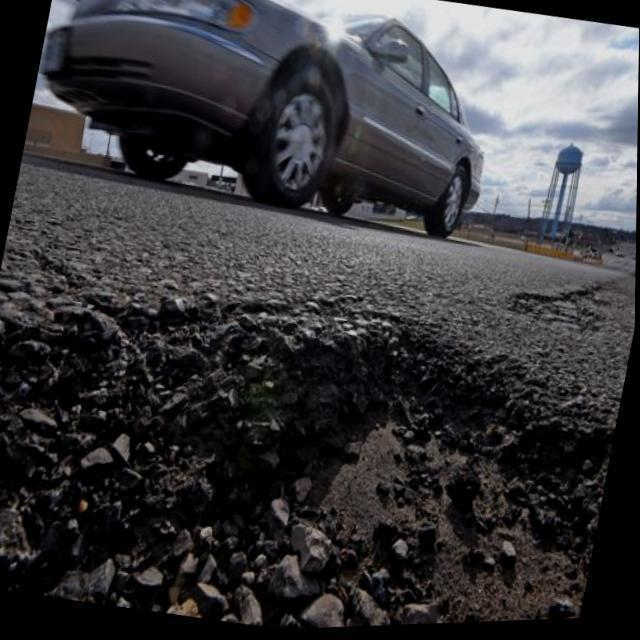Pothole: (0, 334, 611, 632)
